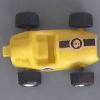amarillo: (5, 14, 98, 85)
